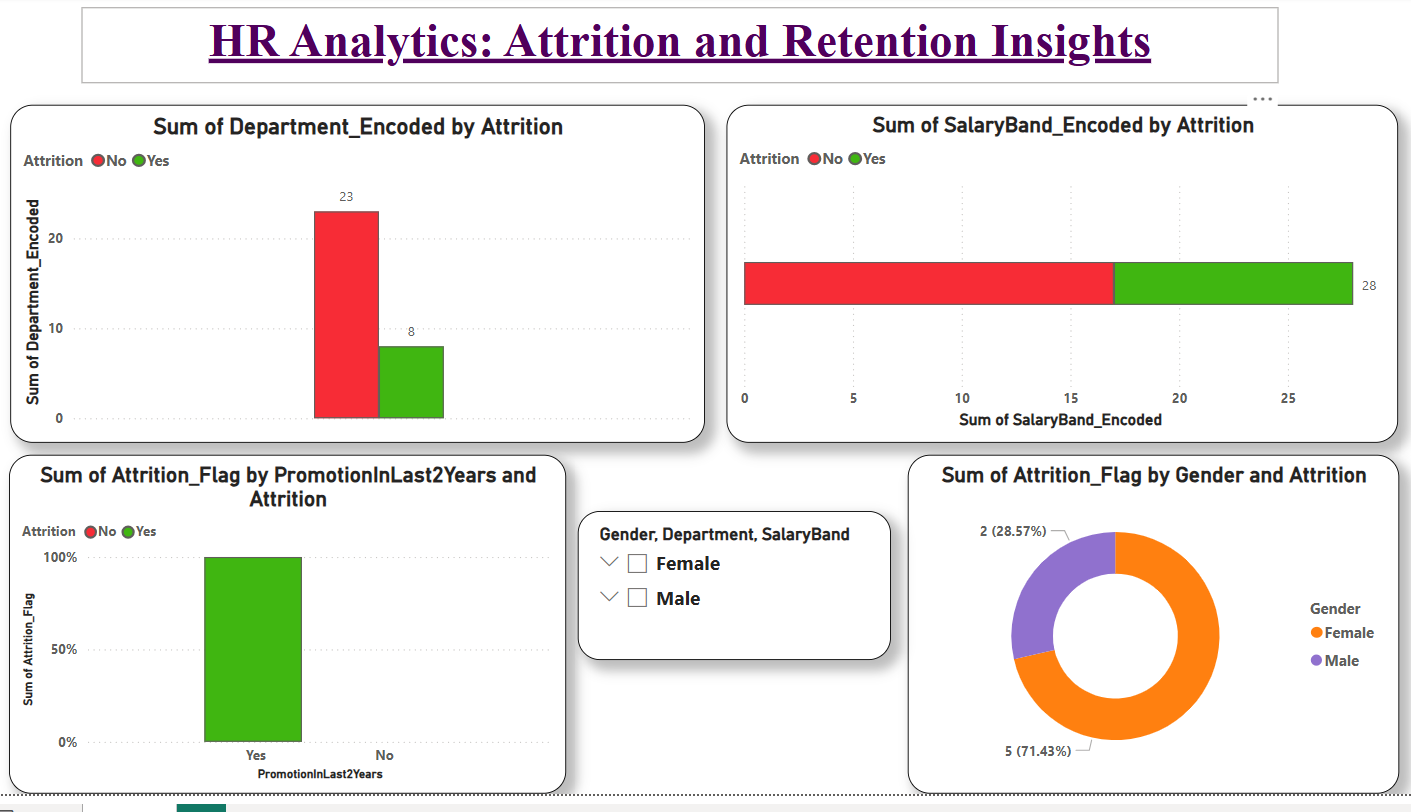

What the dashboard file says about the page in this screenshot:
{"tool":"powerbi","page":{"name":"Page 1","canvas":[1280,720],"ordinal":0},"visuals":[{"type":"clusteredColumnChart","fields":{"Y":["Sum(processed_hr_data.Department_Encoded)"],"Series":["processed_hr_data.Attrition"]},"box":[14.4,98.1,626.2,304.4],"z":0},{"type":"barChart","fields":{"Series":["processed_hr_data.Attrition"],"Y":["Sum(processed_hr_data.SalaryBand_Encoded)"]},"box":[660.8,98.1,606,304.4],"z":1000},{"type":"hundredPercentStackedColumnChart","fields":{"Category":["processed_hr_data.PromotionInLast2Years"],"Y":["Sum(processed_hr_data.Attrition_Flag)"],"Series":["processed_hr_data.Attrition"]},"box":[13,414.1,502.1,305.9],"z":3000},{"type":"donutChart","fields":{"Category":["processed_hr_data.Gender"],"Series":["processed_hr_data.Attrition"],"Y":["Sum(processed_hr_data.Attrition_Flag)"]},"box":[823.8,414.1,442.9,305.9],"z":3001},{"type":"slicer","fields":{"Values":["processed_hr_data.Gender","processed_hr_data.Department","processed_hr_data.SalaryBand"]},"box":[526.6,464.6,282.8,134.2],"z":3002},{"type":"textbox","box":[79.4,10.1,1079.2,69.3],"z":3003}]}

Visuals, with their boxes in screenshot pixels (x1, y1, x2, y2), scaled from the page's 1280x720 canvas onto the 1411x812 screenshot:
clusteredColumnChart - Sum(processed_hr_data.Department_Encoded) x processed_hr_data.Attrition: (x1=16, y1=111, x2=706, y2=454)
barChart - processed_hr_data.Attrition x Sum(processed_hr_data.SalaryBand_Encoded): (x1=728, y1=111, x2=1396, y2=454)
hundredPercentStackedColumnChart - processed_hr_data.PromotionInLast2Years x Sum(processed_hr_data.Attrition_Flag): (x1=14, y1=467, x2=568, y2=811)
donutChart - processed_hr_data.Gender x processed_hr_data.Attrition: (x1=908, y1=467, x2=1396, y2=811)
slicer - processed_hr_data.Gender x processed_hr_data.Department: (x1=580, y1=524, x2=892, y2=675)
textbox: (x1=88, y1=11, x2=1277, y2=90)
